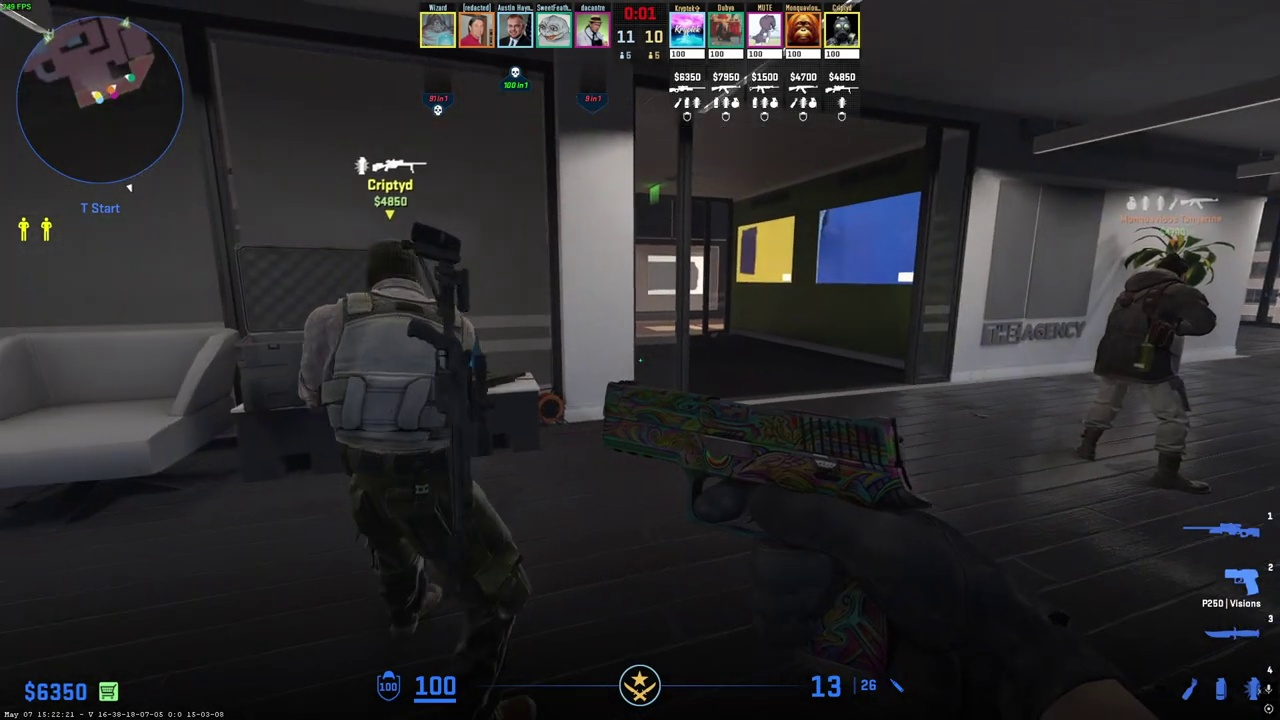Terrorist: (299, 239, 524, 718), (1083, 253, 1212, 493)
